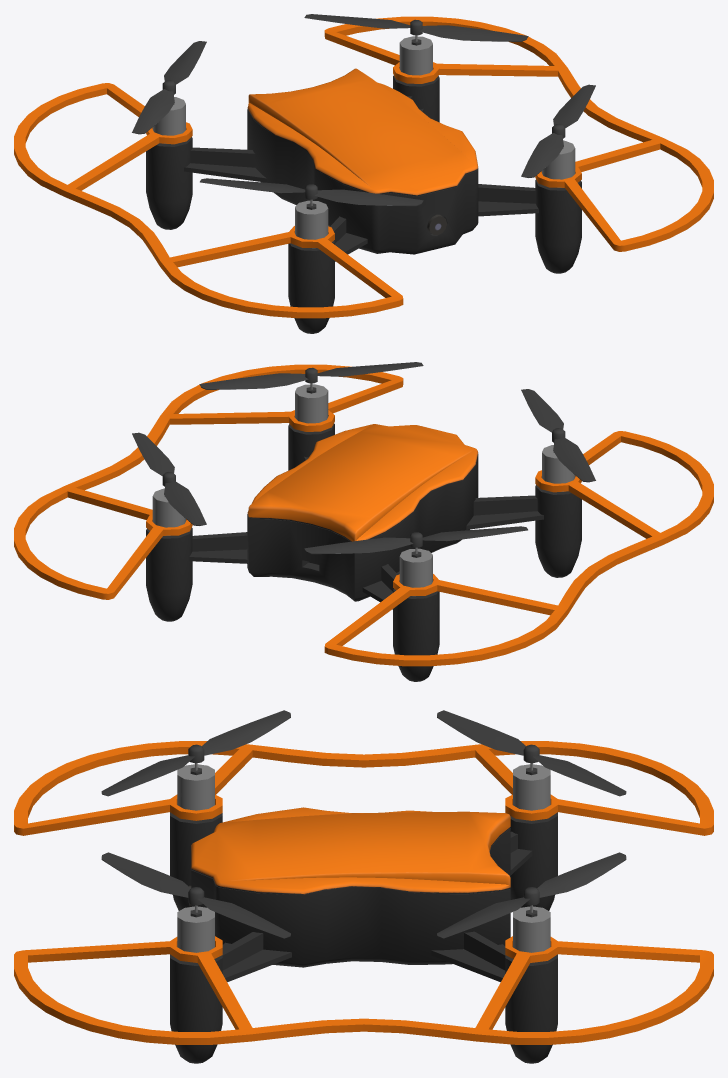
Rendered from Drone.glb.
The picture shows the model from 3 angles, top to bottom: view 1: azimuth 30°, elevation 25°; view 2: azimuth 150°, elevation 25°; view 3: azimuth 270°, elevation 25°; orthographic projection. The views are drawn at different scales.
Parts seen in each view (by area): view 1: Drone; view 2: Drone; view 3: Drone.
Part boxes in pixels (bbox=[...]): Drone: bbox=[14, 14, 713, 333]; Drone: bbox=[14, 362, 713, 681]; Drone: bbox=[14, 710, 713, 1063].
Size of the model in its own units: 0.1828 by 0.0488 by 0.1823.
1 material, 1 textured.
